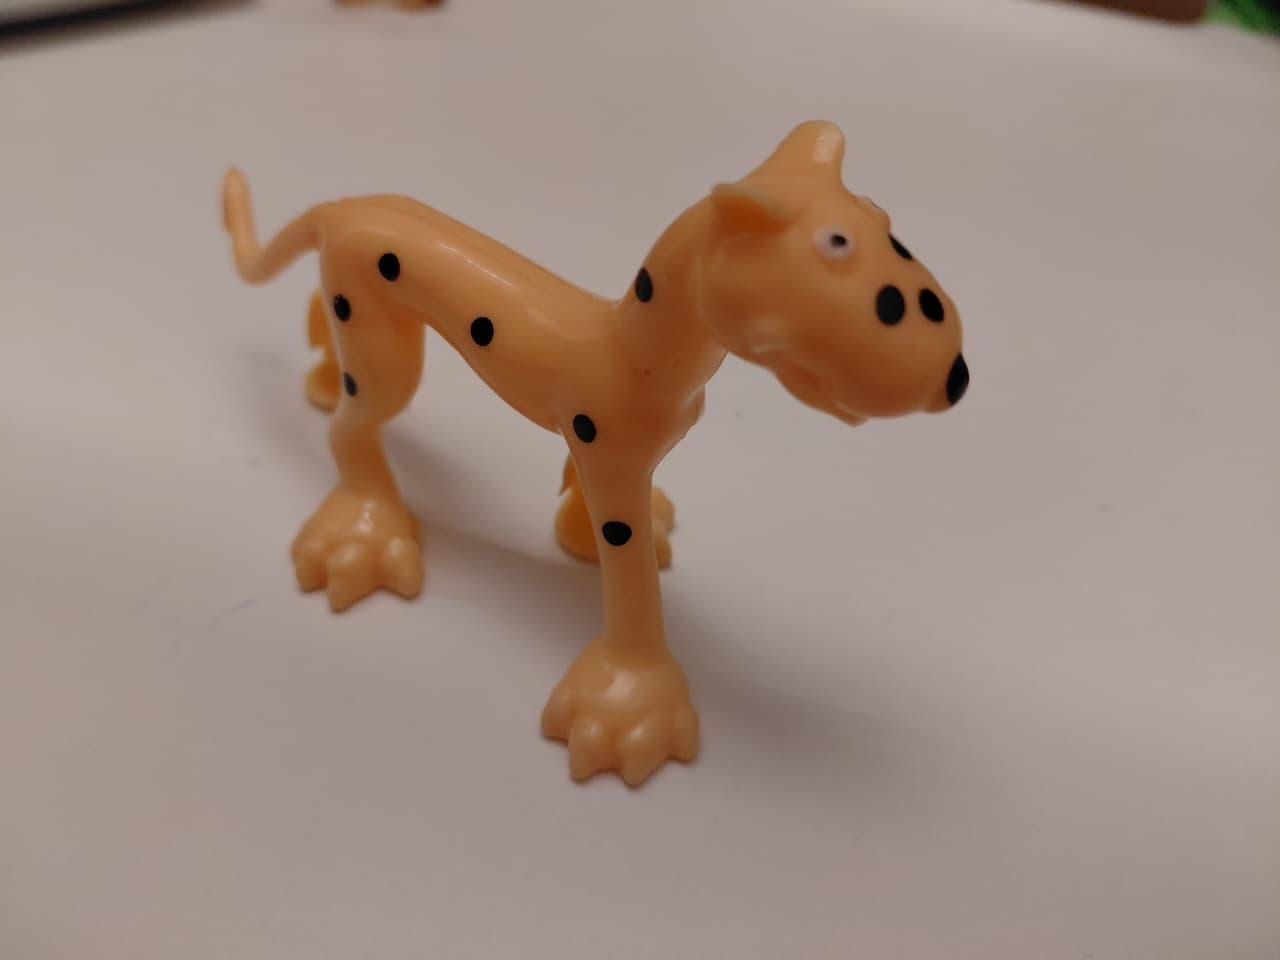cheetah: (198, 110, 1026, 791)
